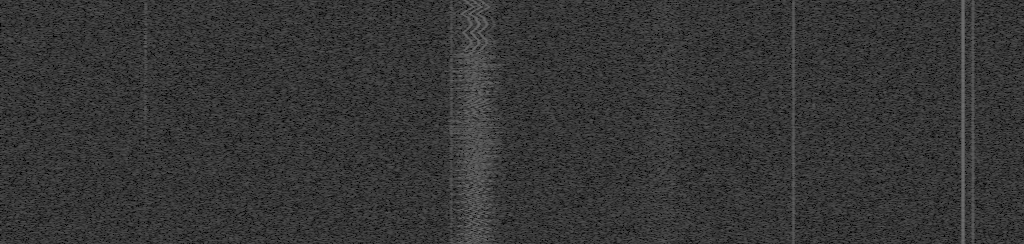wv_am: (960, 0, 966, 244), (449, 0, 454, 244)
wv_cw: (791, 0, 796, 244), (971, 0, 975, 244)
wv_lsb: (143, 3, 149, 141), (143, 185, 149, 215), (143, 142, 148, 171), (143, 216, 148, 244), (812, 69, 816, 89), (812, 43, 816, 57), (811, 101, 817, 110), (812, 58, 816, 68), (812, 91, 816, 100), (812, 24, 816, 31), (812, 16, 816, 23), (812, 239, 817, 244), (812, 9, 816, 15), (812, 37, 816, 42), (812, 2, 816, 7), (813, 111, 816, 114), (144, 172, 147, 175)
wv_wbfm: (435, 0, 519, 244), (624, 0, 700, 244)
